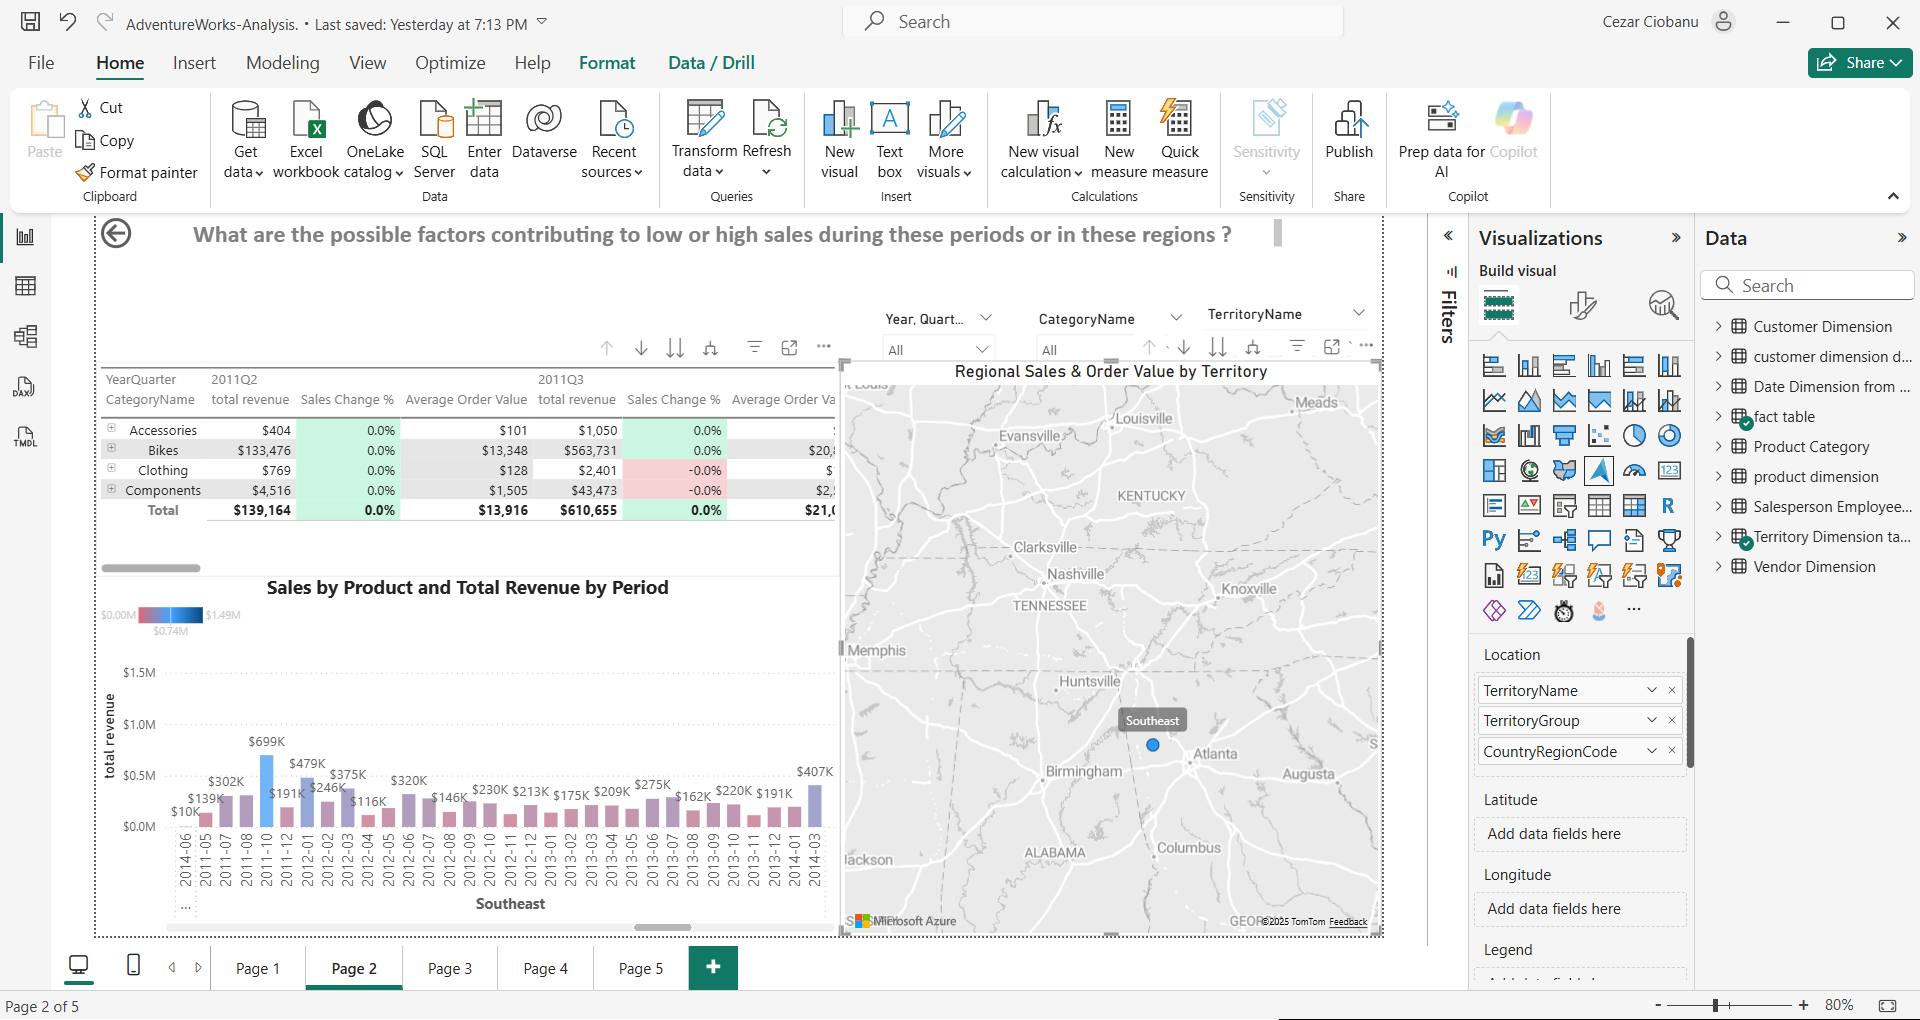

What the dashboard file says about the page in this screenshot:
{"tool":"powerbi","page":{"name":"Page 2","canvas":[1280,720],"ordinal":1},"visuals":[{"type":"columnChart","title":"Sales by Product and Total Revenue by Period","fields":{"Category":["Territory Dimension table.TerritoryName","Date Dimension from orders.Period"],"Y":["fact table.total revenue"]},"box":[0,359.5,740.2,360.7],"z":0},{"type":"slicer","title":"Period","fields":{"Values":["Date Dimension from orders.Year","Date Dimension from orders.Quarter"]},"box":[772.2,92.2,132.2,56.7],"z":1000},{"type":"actionButton","box":[0,0,100,40],"z":2000},{"type":"slicer","fields":{"Values":["Product Category.CategoryName"]},"box":[925,92.5,168.8,55],"z":3000},{"type":"slicer","fields":{"Values":["Territory Dimension table.TerritoryName"]},"box":[1093.8,87.5,182.5,60],"z":4000},{"type":"textbox","box":[50,1.7,1135,38.3],"z":5000},{"type":"pivotTable","fields":{"Rows":["Product Category.CategoryName","product dimension.ProductName"],"Columns":["Date Dimension from orders.YearQuarter"],"Values":["fact table.total revenue","fact table.Sales Change %","fact table.Average Order Value"]},"box":[0,147.5,740,215],"z":6000},{"type":"azureMap","title":"Regional Sales & Order Value by Territory ","fields":{"Category":["Territory Dimension table.TerritoryName","Territory Dimension table.TerritoryGroup","Territory Dimension table.CountryRegionCode"],"Size":["fact table.total revenue"]},"box":[740,146.2,540,573.8],"z":7000}]}

Visuals, with their boxes on the page's 1280x720 design canvas (x1, y1, x2, y2). These are canvas units, not pixel positions in the 1920x1020 screenshot, which may show the page scaled, cropped or inside an application window:
"Sales by Product and Total Revenue by Period" columnChart: box(0, 360, 740, 720)
"Period" slicer: box(772, 92, 904, 149)
actionButton: box(0, 0, 100, 40)
slicer - Product Category.CategoryName: box(925, 92, 1094, 148)
slicer - Territory Dimension table.TerritoryName: box(1094, 88, 1276, 148)
textbox: box(50, 2, 1185, 40)
pivotTable - Product Category.CategoryName x product dimension.ProductName: box(0, 148, 740, 362)
"Regional Sales & Order Value by Territory " azureMap: box(740, 146, 1280, 720)
